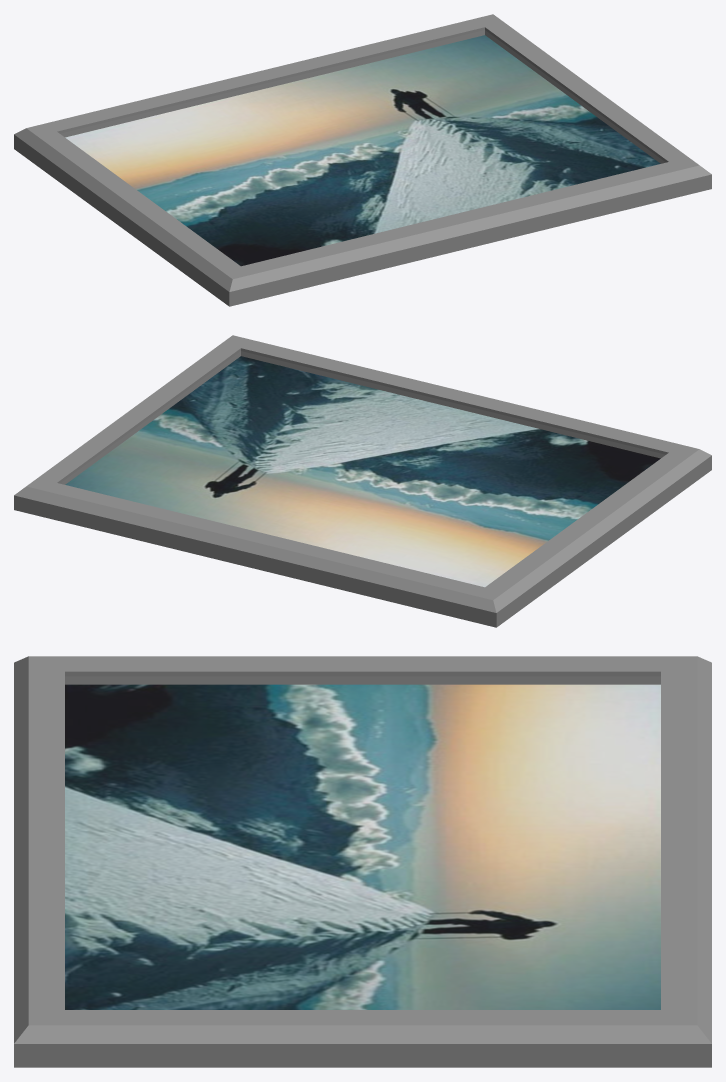
File: poster frame 4.FBX
3 renders of one model, top to bottom at view 1: azimuth 30°, elevation 25°; view 2: azimuth 150°, elevation 25°; view 3: azimuth 270°, elevation 25°, orthographic. The views are drawn at different scales.
Visible parts, largest first — view 1: Box004; view 2: Box004; view 3: Box004.
Boxes of the visible parts, <box> form: Box004: <box>14,14,711,306</box>; Box004: <box>14,335,711,627</box>; Box004: <box>14,656,711,1067</box>.
Bounding box in the file's own units: 17.73 × 0.7823 × 13.71.
